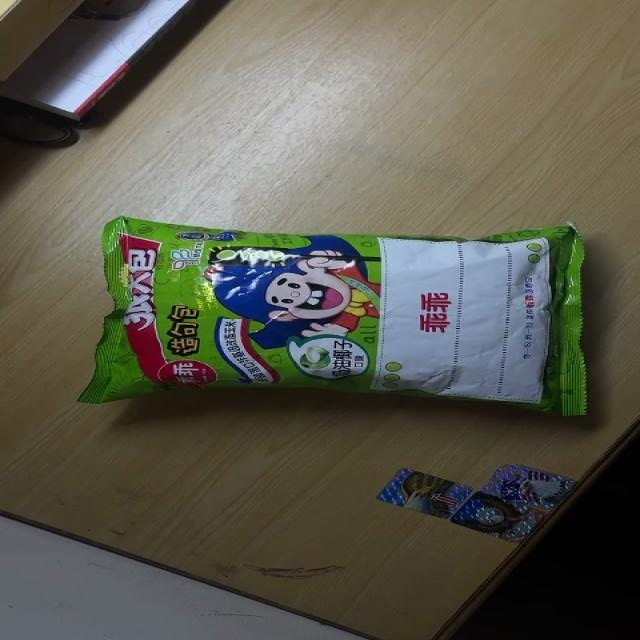Good-Luck: (78, 214, 586, 418)
